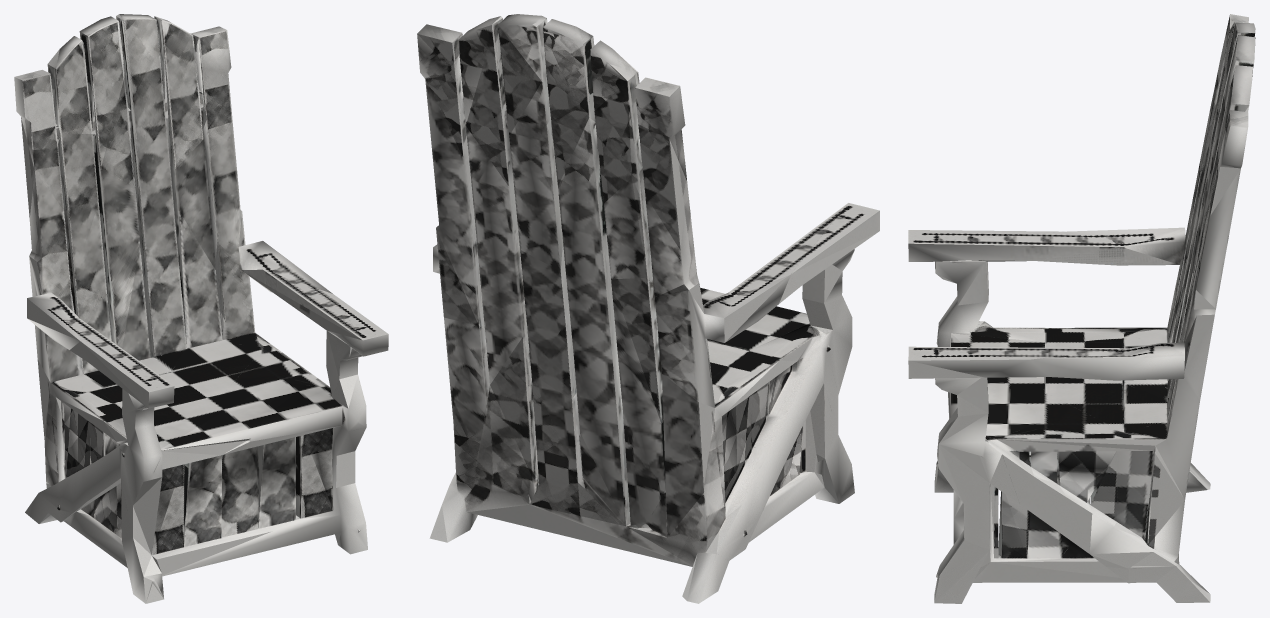
The model's file is Chaise.fbx.
The picture shows the model from 3 angles, left to right: view 1: azimuth 30°, elevation 25°; view 2: azimuth 150°, elevation 25°; view 3: azimuth 270°, elevation 25°; orthographic projection. The views are drawn at different scales.
Parts seen in each view (by area): view 1: Mesh_0; view 2: Mesh_0; view 3: Mesh_0.
Boxes of the visible parts, x1,y1,x2,y2 form: Mesh_0: (14,14,388,603); Mesh_0: (417,14,879,603); Mesh_0: (908,14,1255,603).
Size of the model in its own units: 104 by 190 by 117.
Materials: 1 (1 with a texture image).
